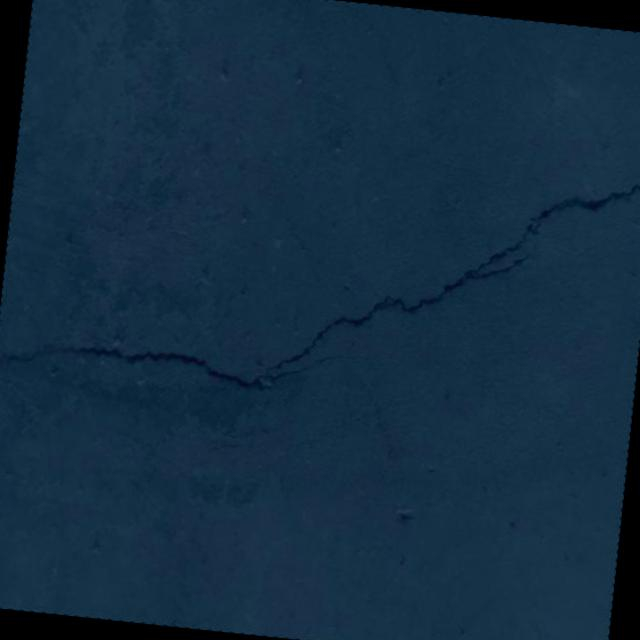crack: (1, 110, 640, 431)
